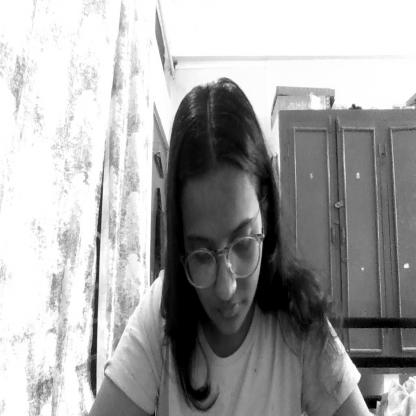Normal: (178, 117, 270, 336)
